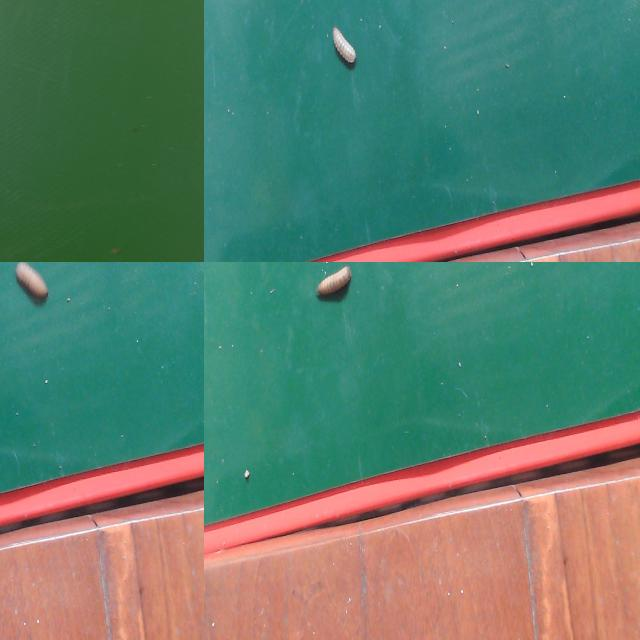Maggot: (14, 263, 50, 307), (315, 267, 352, 303), (330, 29, 357, 69)
